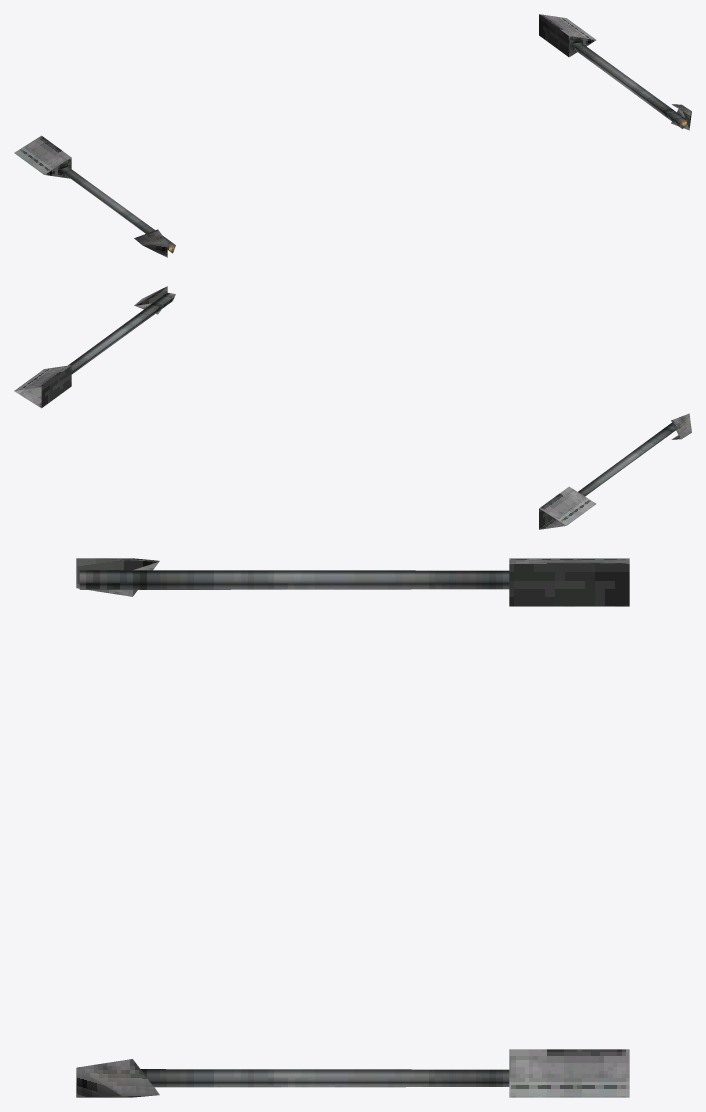
File: black_sun_fighter_light_weapon_s06_l3.fbx
3 renders of one model, top to bottom at view 1: azimuth 30°, elevation 25°; view 2: azimuth 150°, elevation 25°; view 3: azimuth 270°, elevation 25°, orthographic. The views are drawn at different scales.
Visible parts, largest first — view 1: mesh_node; view 2: mesh_node; view 3: mesh_node.
Boxes of the visible parts, x1,y1,x2,y2 form: mesh_node: (14, 14, 691, 257); mesh_node: (14, 286, 691, 529); mesh_node: (76, 558, 629, 1097).
Bounding box in the file's own units: 11.54 × 0.4267 × 5.
